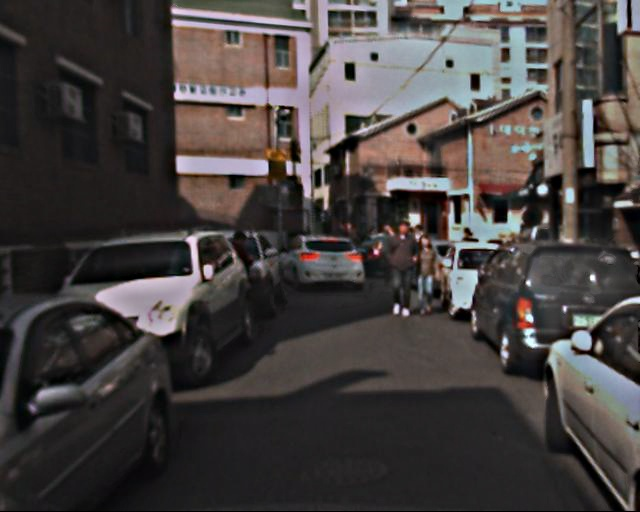person: (383, 220, 422, 315), (223, 230, 261, 323), (410, 236, 442, 315)
